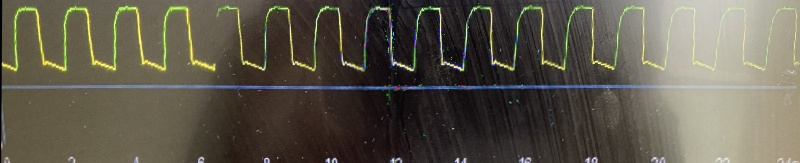normal_pressure: (0, 0, 771, 85)
